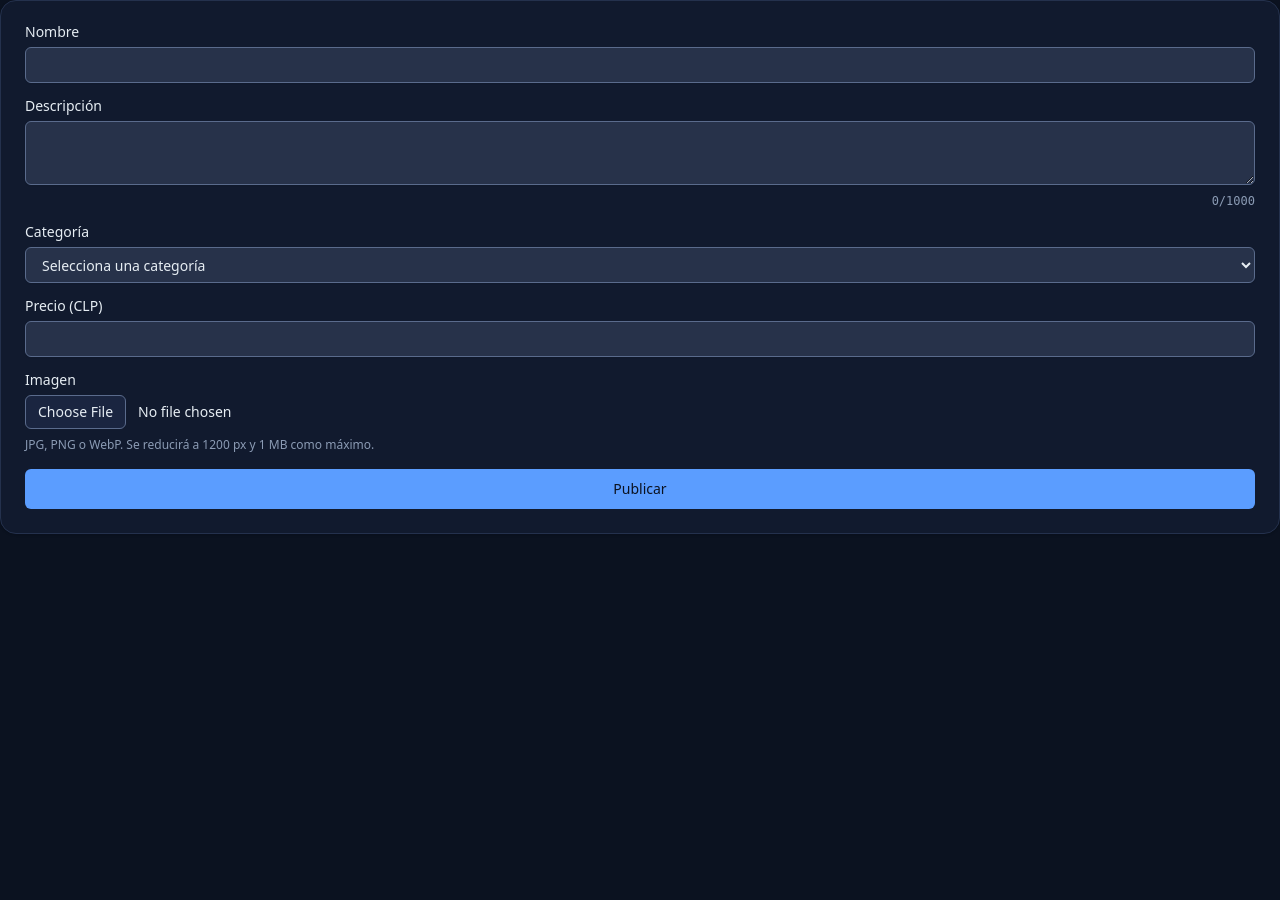
Test: ProductForm › shows per-field errors, focuses the first and does not submit
Click the button "Publicar". click: {"x": 640, "y": 489}
box: [25,469,1255,509]
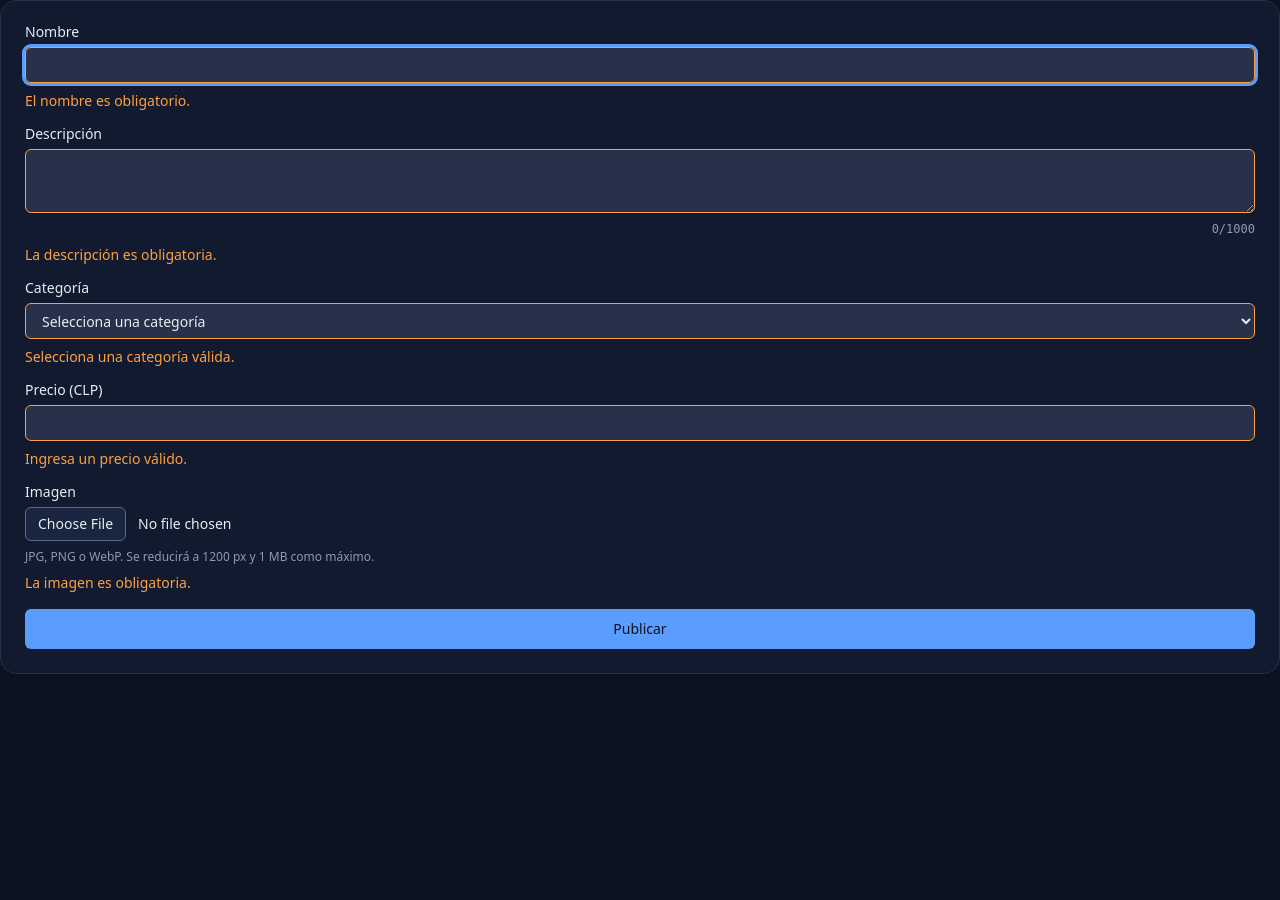
Check: the message "El nombre es obligatorio." is shown, box [25,91,190,110]
Check: the text "La imagen es obligatoria." is shown, box [25,573,191,592]
Check: the text "Selecciona una categoría válida." is shown, box [25,347,234,366]
